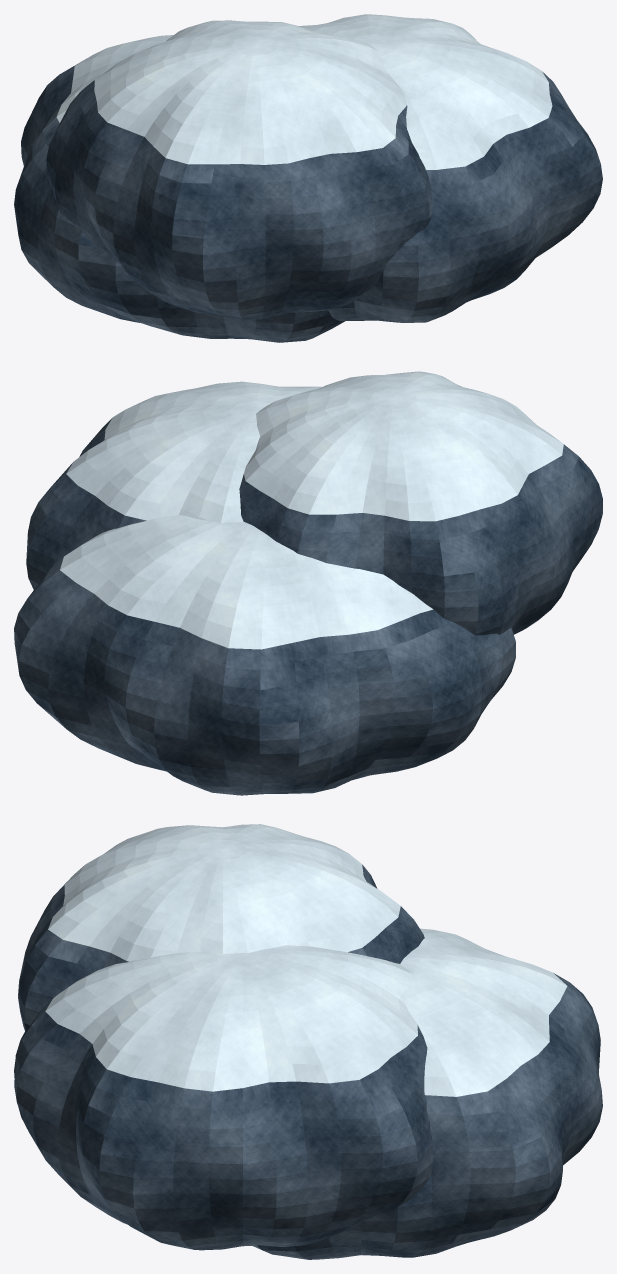
Rendered from FirstRoom_SmallRock.fbx.
3 renders of one model, top to bottom at view 1: azimuth 30°, elevation 25°; view 2: azimuth 150°, elevation 25°; view 3: azimuth 270°, elevation 25°, orthographic. The views are drawn at different scales.
Visible parts, largest first — view 1: WO_FirstRoom_SmallRock_LOD0; view 2: WO_FirstRoom_SmallRock_LOD0; view 3: WO_FirstRoom_SmallRock_LOD0.
Boxes of the visible parts, x1,y1,x2,y2 form: WO_FirstRoom_SmallRock_LOD0: [14, 14, 602, 342]; WO_FirstRoom_SmallRock_LOD0: [14, 371, 602, 795]; WO_FirstRoom_SmallRock_LOD0: [14, 824, 602, 1259].
Size of what is drawn, in the model's own units: 5.84 by 3.87 by 6.
